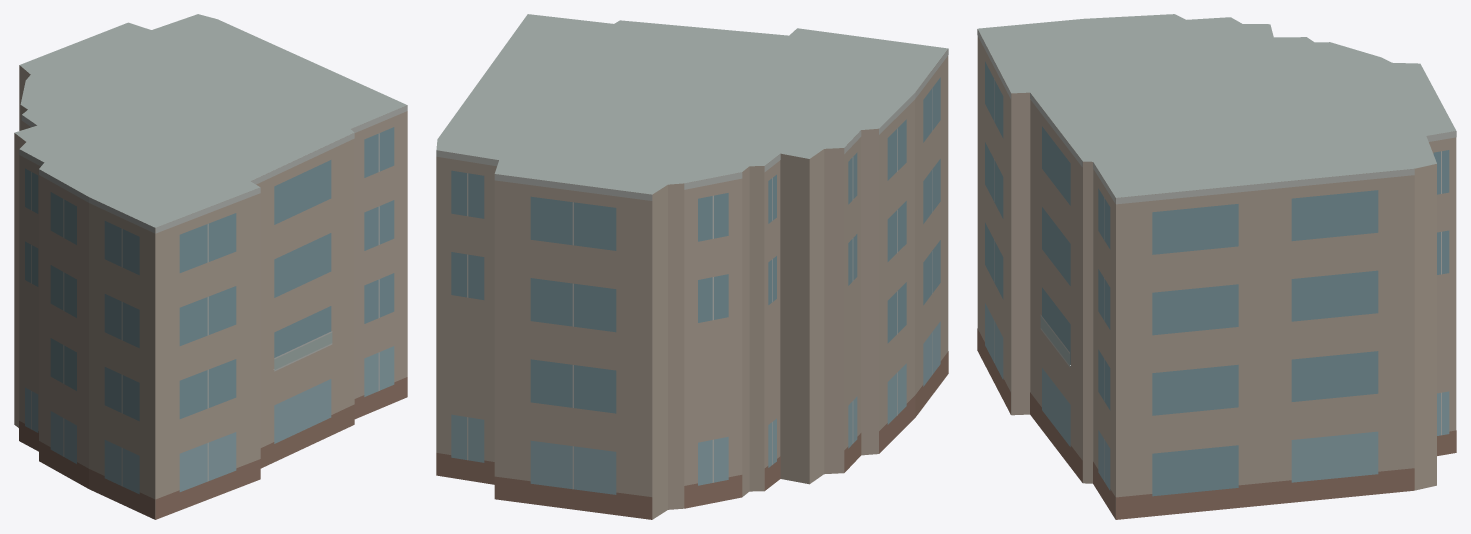
Rendered from survey-upis-32921973.glb.
3 views of the same model, side by side, from view 1: azimuth 30°, elevation 25°; view 2: azimuth 150°, elevation 25°; view 3: azimuth 270°, elevation 25° (orthographic). The views are drawn at different scales.
Parts seen in each view (by area): view 1: survey-upis-32921973.tmp; view 2: survey-upis-32921973.tmp; view 3: survey-upis-32921973.tmp.
Boxes of the visible parts, box(x1,y1,x2,y2) form: survey-upis-32921973.tmp: box(14, 14, 407, 519); survey-upis-32921973.tmp: box(436, 14, 948, 519); survey-upis-32921973.tmp: box(977, 14, 1456, 519).
Size of the model in its own units: 14.96 by 12.2 by 16.46.
